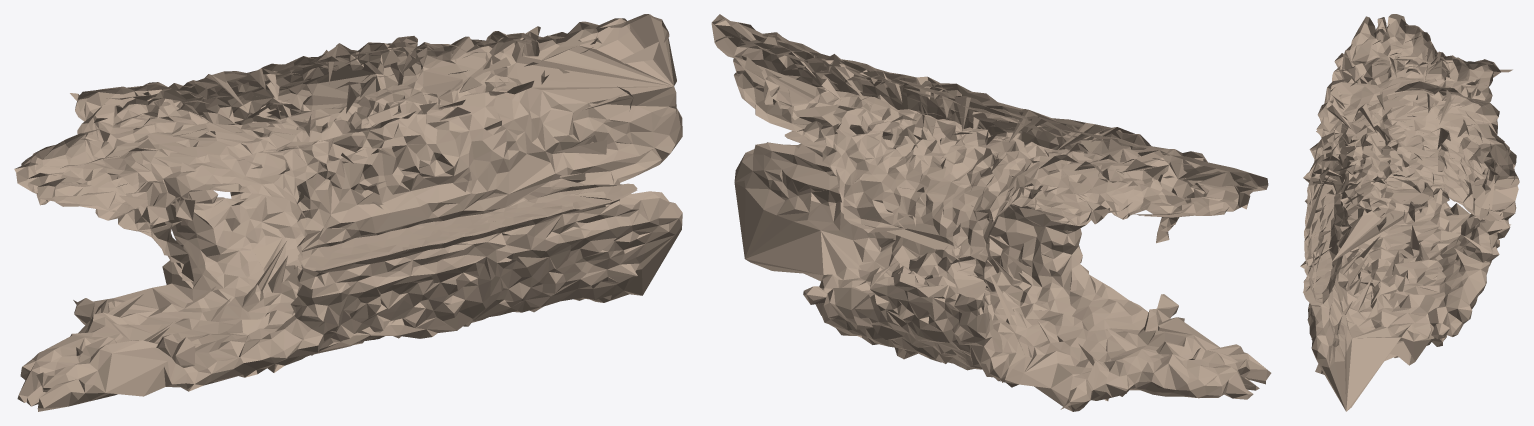
The model's file is improved.glb.
3 renders of one model, left to right at view 1: azimuth 30°, elevation 25°; view 2: azimuth 150°, elevation 25°; view 3: azimuth 270°, elevation 25°, orthographic. The views are drawn at different scales.
Visible parts, largest first — view 1: world; view 2: world; view 3: world.
Part boxes in pixels (x1,y1,x2,y2): world: [14, 14, 682, 411]; world: [711, 14, 1271, 411]; world: [1300, 14, 1519, 411].
Bounding box in the file's own units: 0.5 × 0.217 × 0.206.
